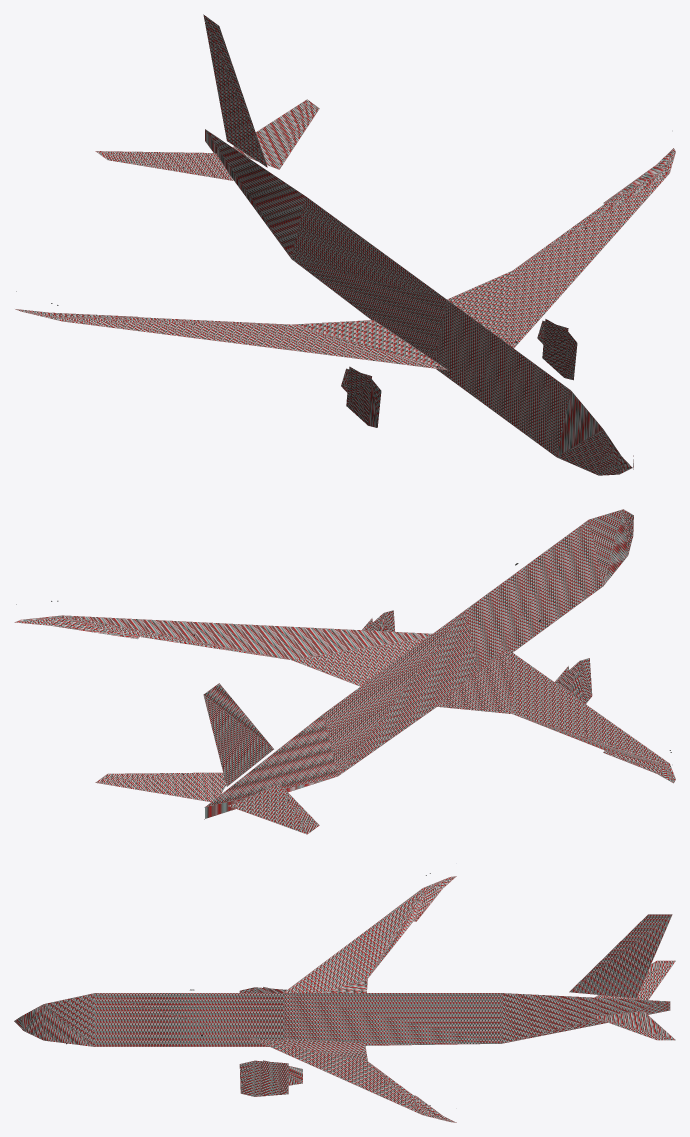
Rendered from TFS_B773ER_LOD1.gltf.
3 views of the same model, one above another, from view 1: azimuth 30°, elevation 25°; view 2: azimuth 150°, elevation 25°; view 3: azimuth 270°, elevation 25° (orthographic). The views are drawn at different scales.
Parts seen in each view (by area): view 1: low_poly_model; view 2: low_poly_model; view 3: low_poly_model.
Boxes of the visible parts, <box> form: low_poly_model: <box>15,14,675,475</box>; low_poly_model: <box>14,509,675,834</box>; low_poly_model: <box>14,876,675,1122</box>.
Size of the model in its own units: 65.39 by 17.6 by 74.09.
